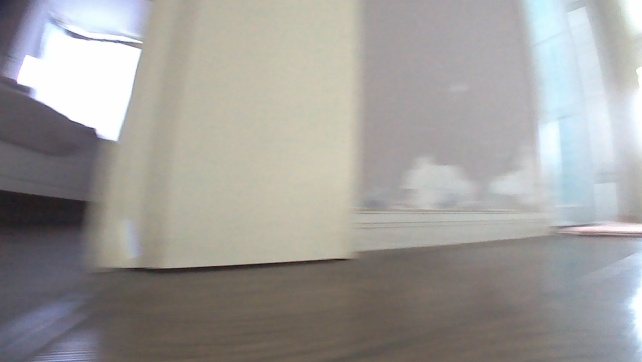blanket: (560, 219, 641, 239)
